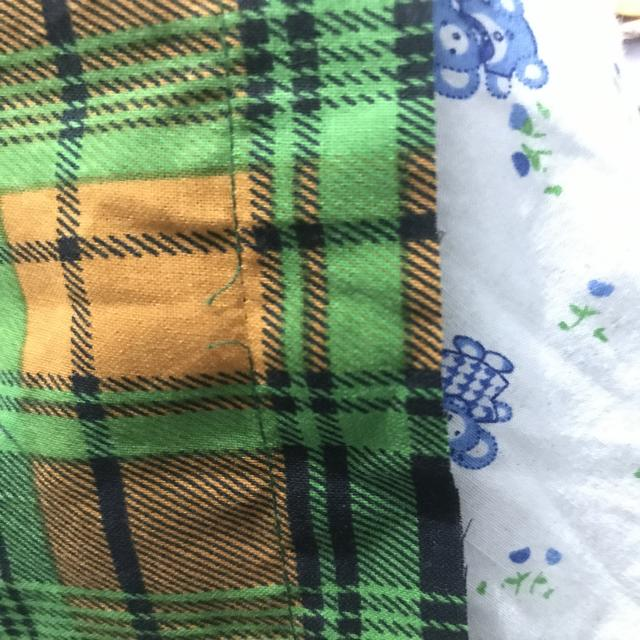broken: (193, 262, 282, 364)
good: (209, 133, 256, 223)
